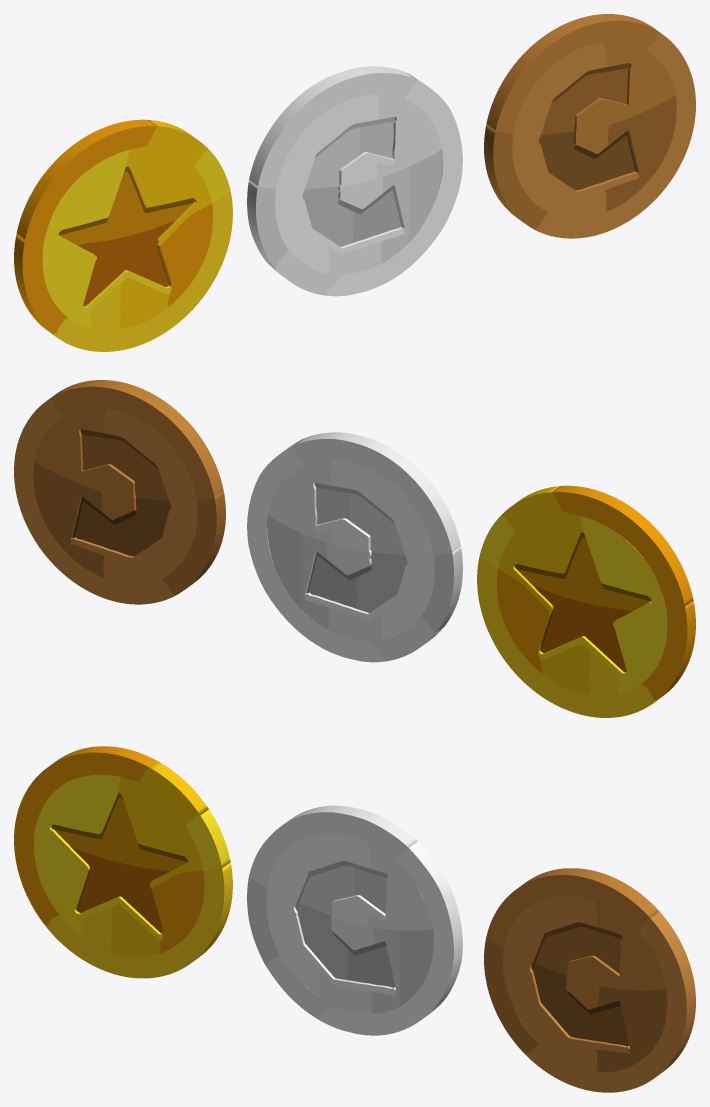
Rendered from coins pack.glb.
3 views of the same model, one above another, from view 1: azimuth 30°, elevation 25°; view 2: azimuth 150°, elevation 25°; view 3: azimuth 330°, elevation 25° (orthographic).
Visible parts, largest first — view 1: Curve.087, Curve.117, Curve.098, Curve.116, Curve.043, Curve.041, Curve.038, Curve.044, Curve.121, Curve.095, Curve.046, Curve.122 (+9 smaller); view 2: Curve.087, Curve.117, Curve.098, Curve.043, Curve.116, Curve.041, Curve.038, Curve.044, Curve.121, Curve.095, Curve.046, Curve.122 (+9 smaller); view 3: Curve.087, Curve.117, Curve.098, Curve.116, Curve.041, Curve.043, Curve.038, Curve.044, Curve.121, Curve.046, Curve.122, Curve.042 (+10 smaller).
Part boxes in pixels (x1,y1,x2,y2): Curve.087: (275,74,462,296); Curve.117: (512,27,695,238); Curve.098: (249,66,441,295); Curve.116: (486,14,675,153); Curve.043: (14,119,212,334); Curve.041: (42,149,230,328); Curve.038: (119,120,211,328); Curve.044: (54,192,232,351); Curve.121: (604,95,676,211); Curve.095: (247,167,409,267); Curve.046: (77,221,174,306); Curve.122: (539,131,634,190); Curve.087: (247,440,434,662); Curve.117: (14,393,197,604); Curve.098: (268,432,460,661); Curve.043: (497,485,695,700); Curve.116: (34,380,223,519); Curve.041: (479,515,667,694); Curve.038: (498,486,590,694); Curve.044: (477,558,655,717); Curve.121: (33,461,105,577); Curve.095: (300,533,462,633); Curve.046: (535,587,632,672); Curve.122: (75,497,170,556); Curve.087: (266,833,462,1035); Curve.117: (503,895,695,1092); Curve.098: (249,805,432,1017); Curve.116: (486,868,666,1009); Curve.041: (34,774,230,940); Curve.043: (14,746,204,953); Curve.038: (110,761,208,956); Curve.044: (45,862,232,978); Curve.121: (595,987,667,1071); Curve.046: (72,848,170,933); Curve.122: (532,963,629,1046); Curve.042: (54,798,187,871).
Bounding box in the file's own units: 4.3 × 1.34 × 0.1024.
